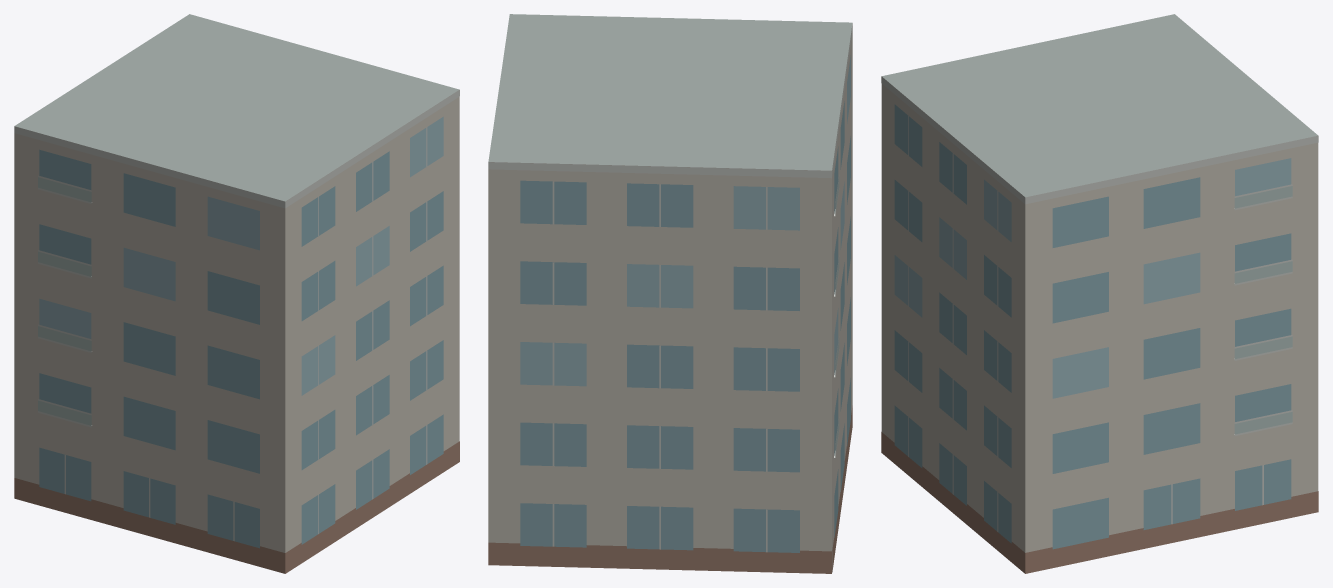
The model's file is survey-upis-32827174.glb.
3 renders of one model, left to right at view 1: azimuth 30°, elevation 25°; view 2: azimuth 150°, elevation 25°; view 3: azimuth 270°, elevation 25°, orthographic. The views are drawn at different scales.
Visible parts, largest first — view 1: survey-upis-32827174.tmp; view 2: survey-upis-32827174.tmp; view 3: survey-upis-32827174.tmp.
Part boxes in pixels (x1,y1,x2,y2): survey-upis-32827174.tmp: [14, 14, 459, 573]; survey-upis-32827174.tmp: [488, 14, 852, 573]; survey-upis-32827174.tmp: [881, 14, 1318, 573].
Bounding box in the file's own units: 13.8 × 13.2 × 13.89.
